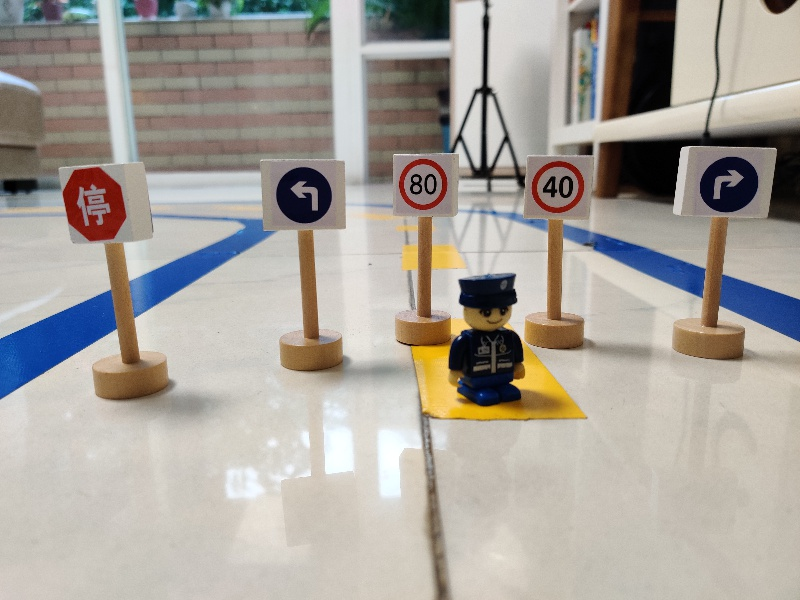limit_40: (520, 155, 598, 223)
limit_80: (388, 150, 461, 219)
person: (445, 271, 530, 411)
stop: (52, 163, 155, 245)
turn_left: (256, 156, 348, 231)
turn_right: (674, 142, 777, 221)
